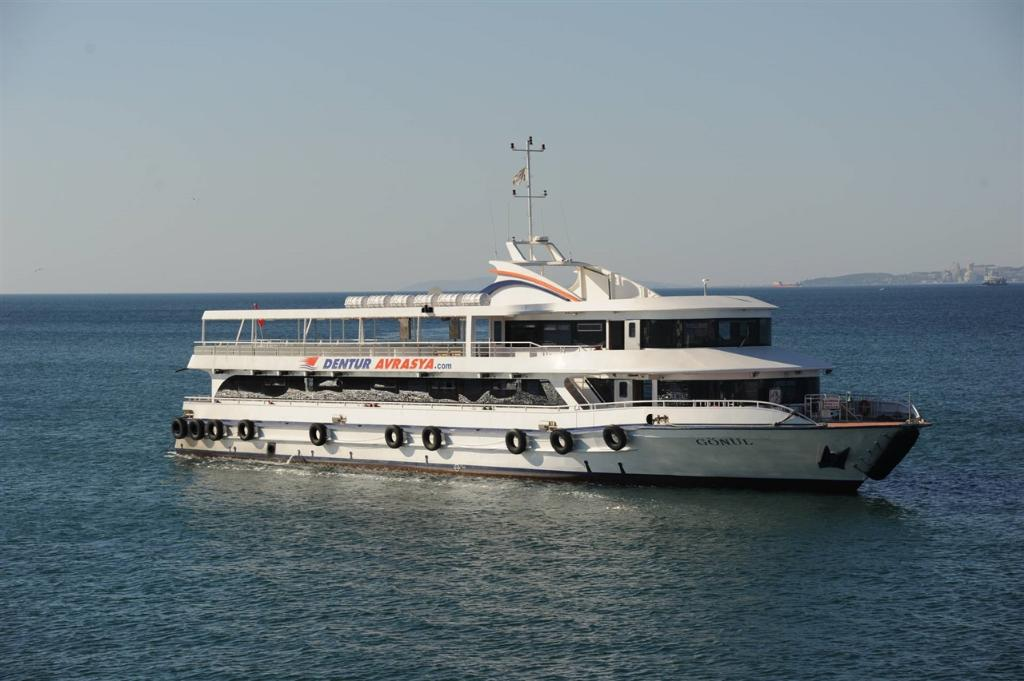PassengerShip: (168, 192, 954, 483)
